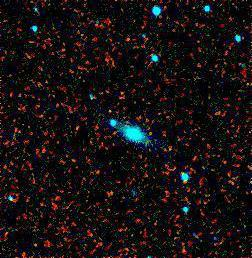star: (166, 233, 196, 258)
